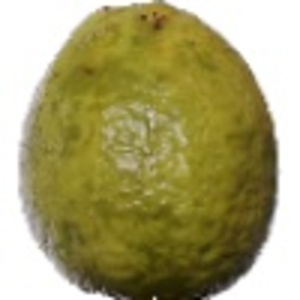goiaba: (14, 2, 286, 298)
